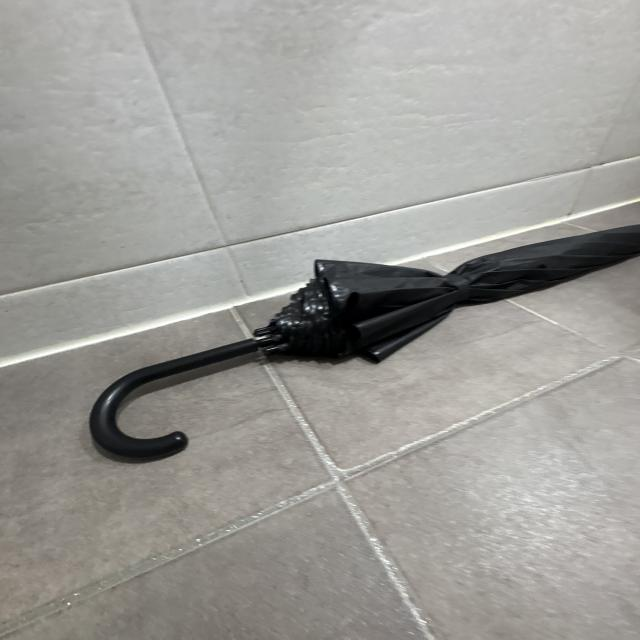umbrella: (91, 222, 640, 463)
